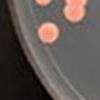pink: (33, 20, 61, 46), (60, 4, 89, 26), (31, 0, 56, 9), (60, 0, 91, 6)
